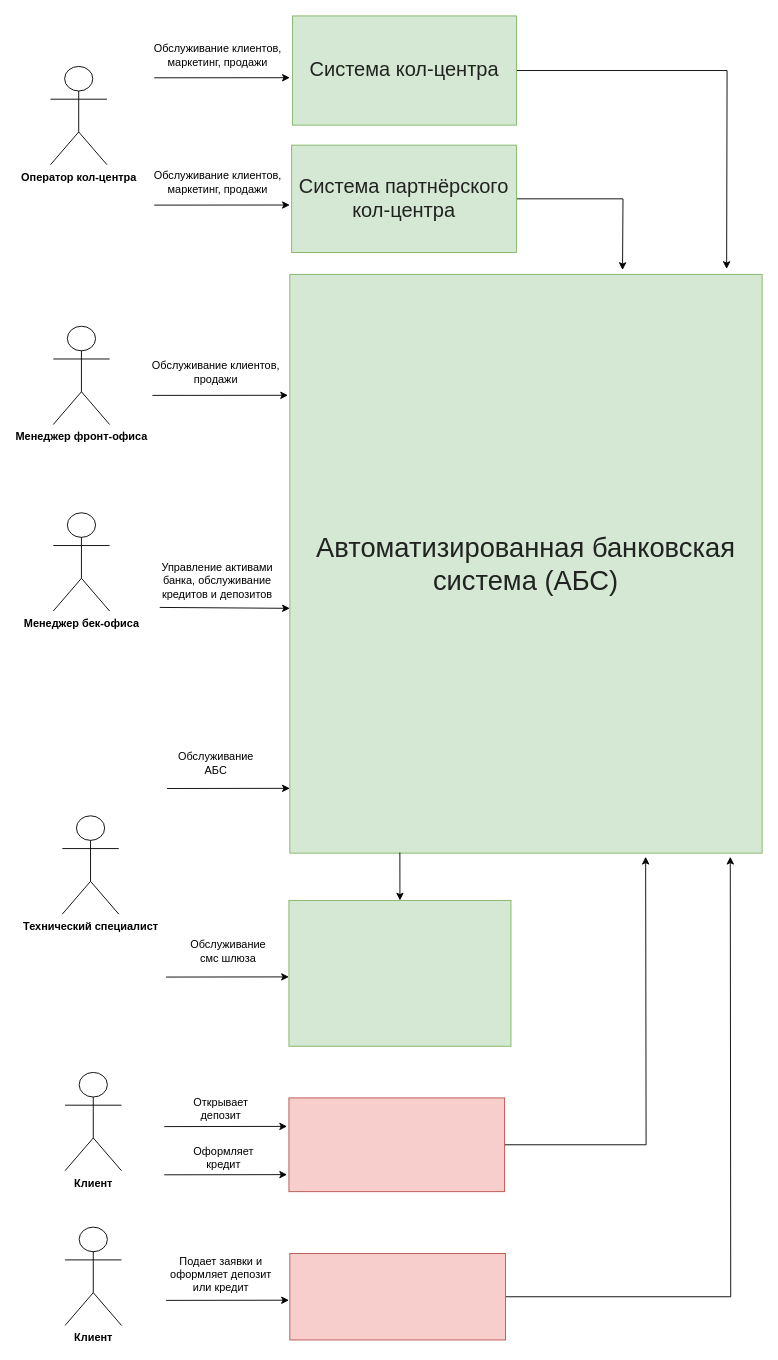
The diagram is 778 pixels wide and 1360 high, and some of its shapes have lost their labels. The shapes that lost their labels are listed below. From the top down, each one's centre as x and y in pixels, then its label:
pixel 399 973: СМС-шлюз телеком-оператора
pixel 396 1144: Интернет банк
pixel 397 1296: Сайт
